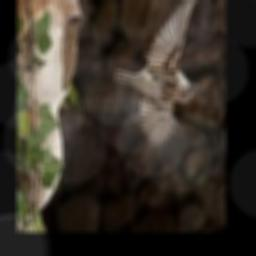Sparrow: (114, 0, 202, 149)
